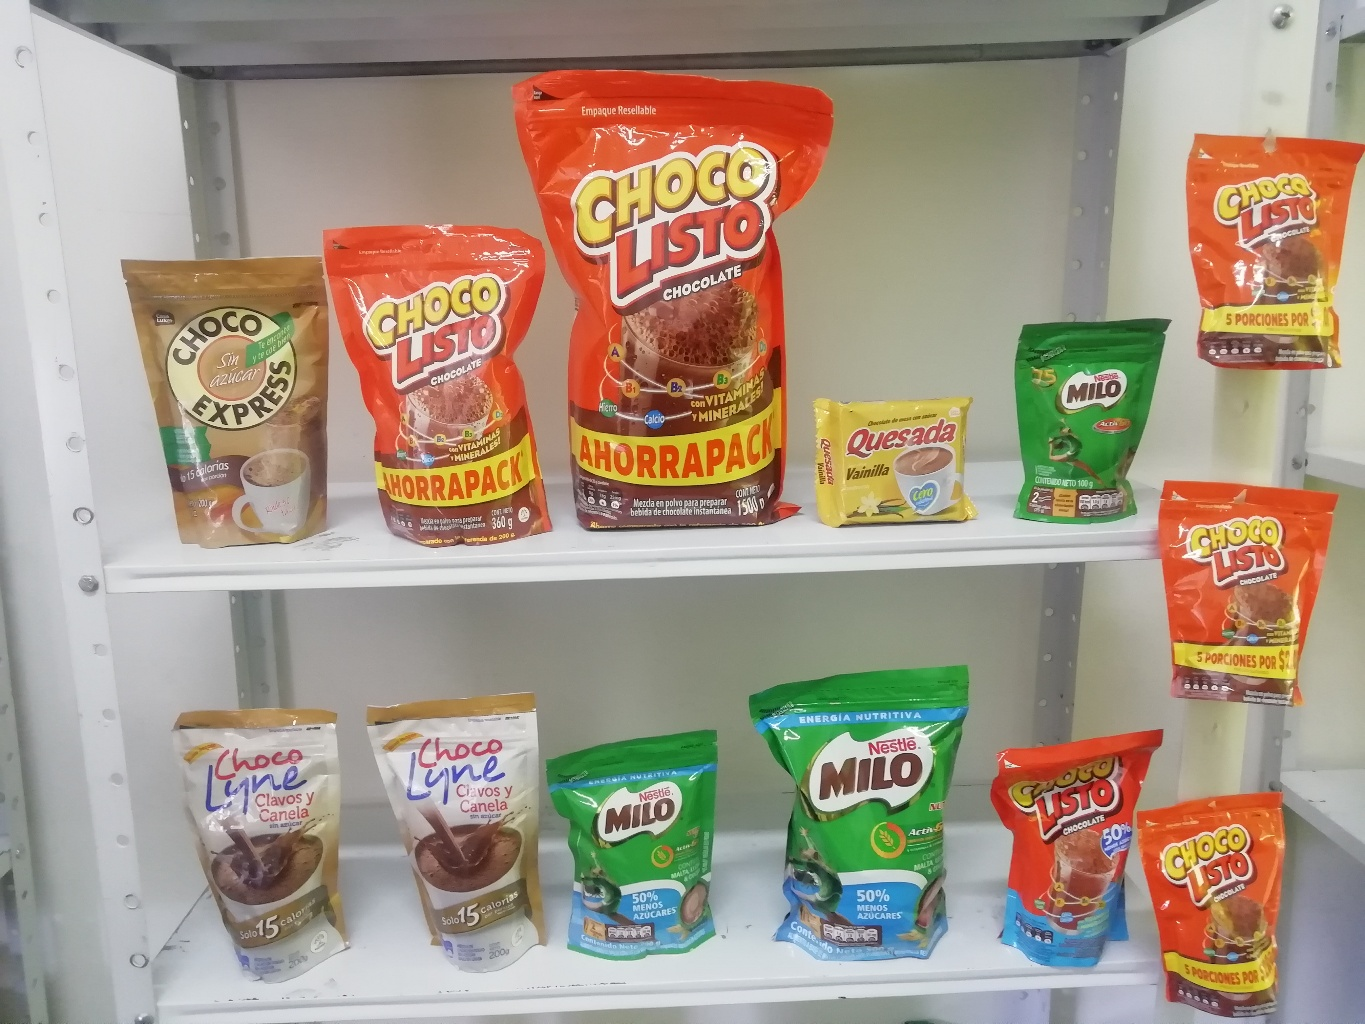COL0170103DYP1,500: (483, 72, 852, 543)
COL0170103DYP36000: (308, 219, 567, 560)
COL0170104DYP20000: (973, 724, 1154, 968)
COL0170203DYP10000: (1003, 310, 1177, 531)
COL0170205DYP20000: (543, 726, 734, 972)
COL0170205DYP50000: (737, 660, 989, 975)
